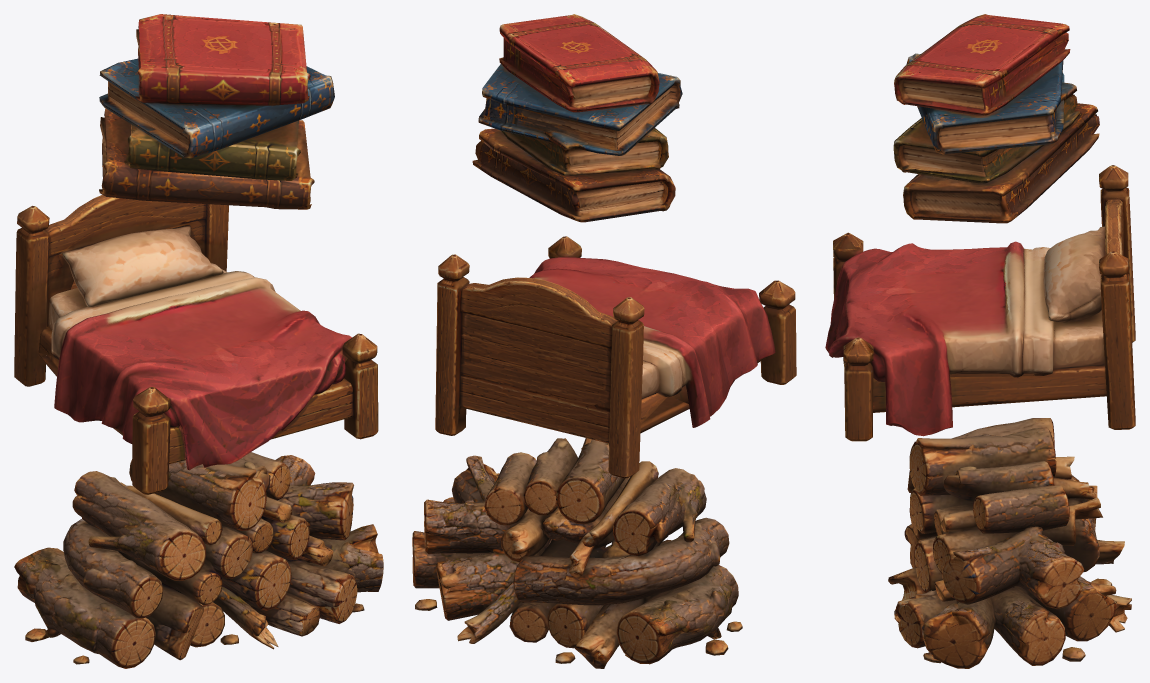
The model's file is wooden_bed_3d_model.fbx.
3 renders of one model, left to right at view 1: azimuth 30°, elevation 25°; view 2: azimuth 150°, elevation 25°; view 3: azimuth 270°, elevation 25°, orthographic. The views are drawn at different scales.
Parts seen in each view (by area): view 1: tripo_4e6c7598_88d7_419a_aedf_786161efbf66; view 2: tripo_4e6c7598_88d7_419a_aedf_786161efbf66; view 3: tripo_4e6c7598_88d7_419a_aedf_786161efbf66.
Boxes of the visible parts, x1=… form: tripo_4e6c7598_88d7_419a_aedf_786161efbf66: x1=14, y1=14, x2=383, y2=668; tripo_4e6c7598_88d7_419a_aedf_786161efbf66: x1=412, y1=14, x2=796, y2=668; tripo_4e6c7598_88d7_419a_aedf_786161efbf66: x1=825, y1=14, x2=1135, y2=668.
Size of the model in its own units: 0.5728 by 0.9995 by 0.4878.
Materials: 1 (1 with a texture image).
